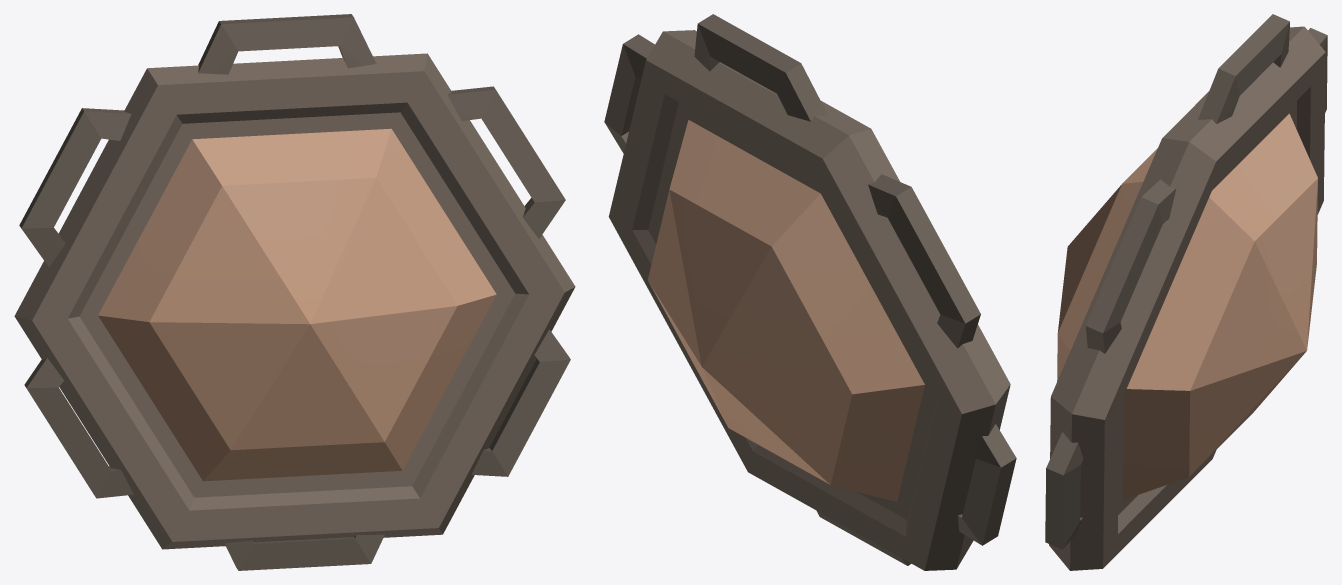
File: genericTalisman.fbx
3 renders of one model, left to right at view 1: azimuth 30°, elevation 25°; view 2: azimuth 150°, elevation 25°; view 3: azimuth 270°, elevation 25°, orthographic. The views are drawn at different scales.
Visible parts, largest first — view 1: genericTalisman; view 2: genericTalisman; view 3: genericTalisman.
Part boxes in pixels (x1,y1,x2,y2): genericTalisman: [14, 14, 575, 570]; genericTalisman: [604, 14, 1016, 570]; genericTalisman: [1045, 14, 1327, 570].
Bounding box in the file's own units: 1.45 × 1.49 × 0.7397.
1 material, 1 textured.
